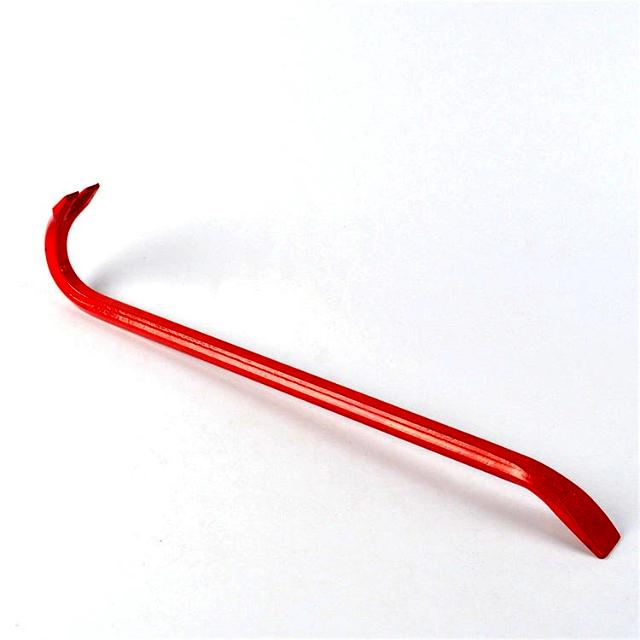crow bar: (40, 181, 624, 562)
